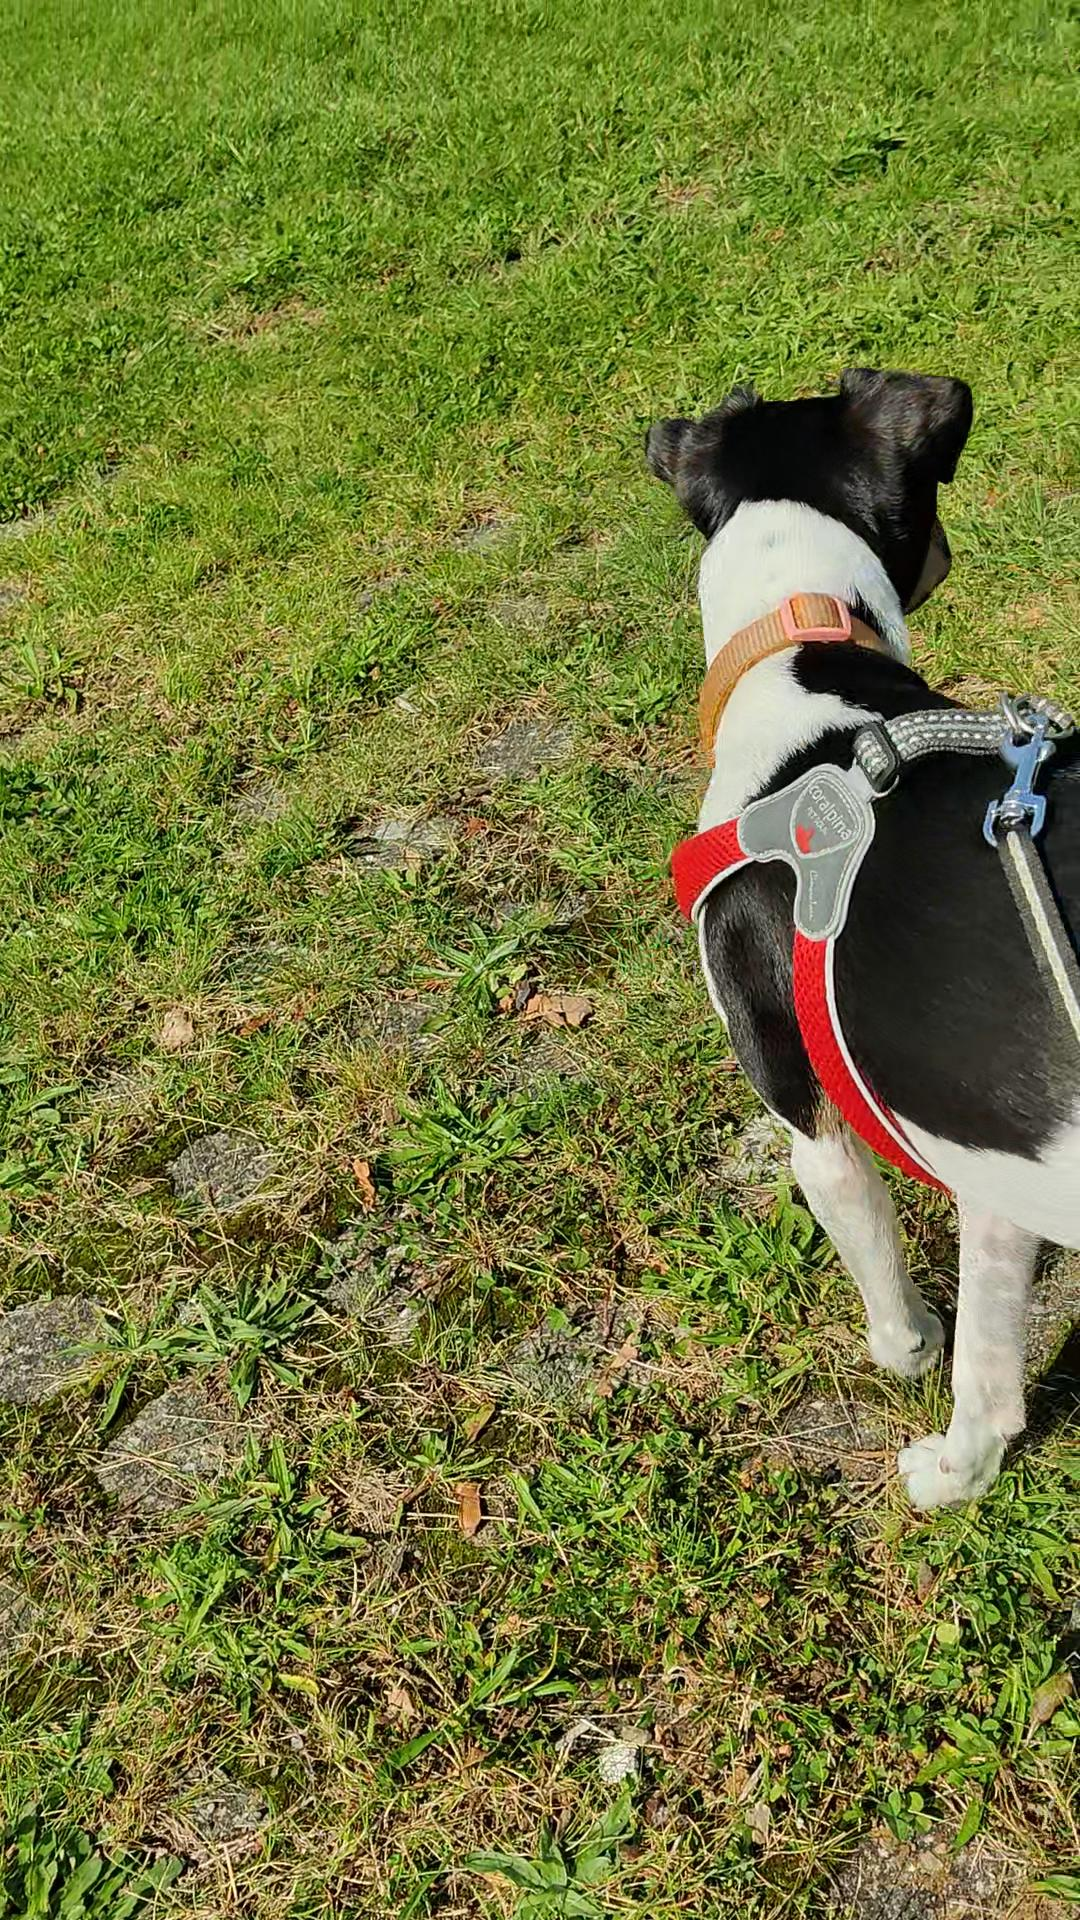Dog: (636, 369, 1079, 1511)
